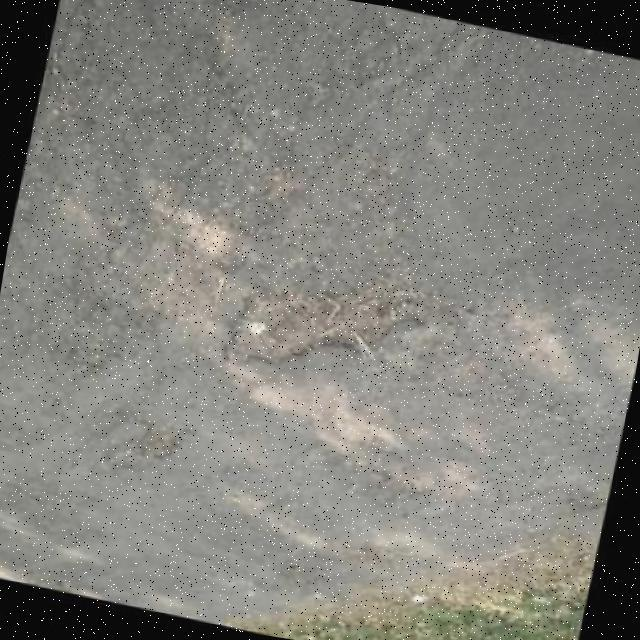Pothole: (223, 277, 453, 364)
